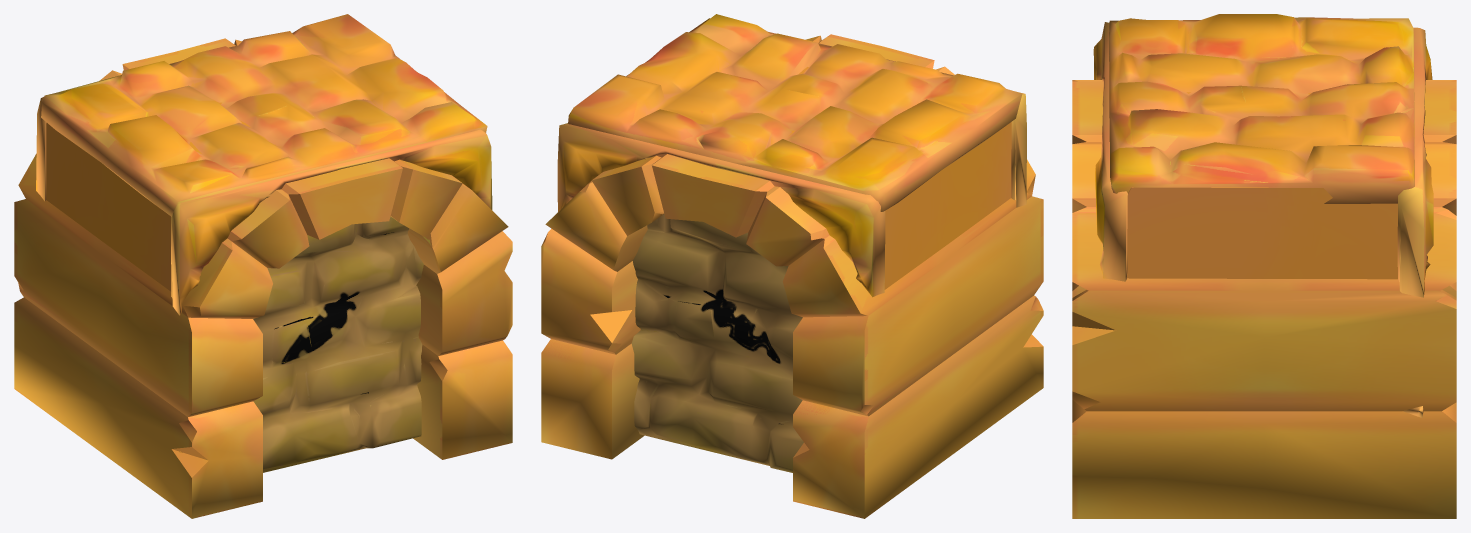
File: DOOR_A.fbx
3 views of the same model, side by side, from view 1: azimuth 30°, elevation 25°; view 2: azimuth 150°, elevation 25°; view 3: azimuth 270°, elevation 25° (orthographic). The views are drawn at different scales.
Visible parts, largest first — view 1: door, wall_low2.003; view 2: door, wall_low2.003; view 3: door.
Part boxes in pixels (box(x1,y1,x2,y2)): door: box(14, 14, 512, 518); wall_low2.003: box(253, 216, 423, 472); door: box(541, 14, 1043, 518); wall_low2.003: box(631, 214, 803, 472); door: box(1072, 14, 1456, 518).
Bounding box in the file's own units: 264 × 253 × 253.
Materials: 5 (5 with a texture image).
